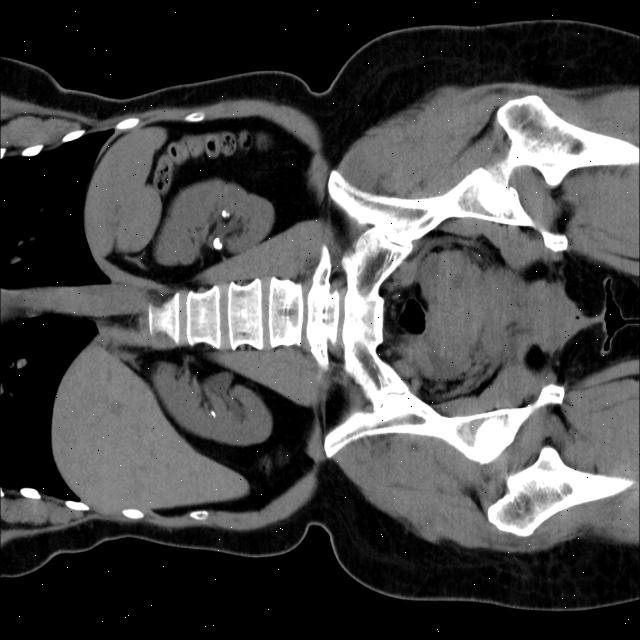kidneystone: (212, 237, 222, 250), (221, 209, 230, 218), (210, 408, 216, 416)
